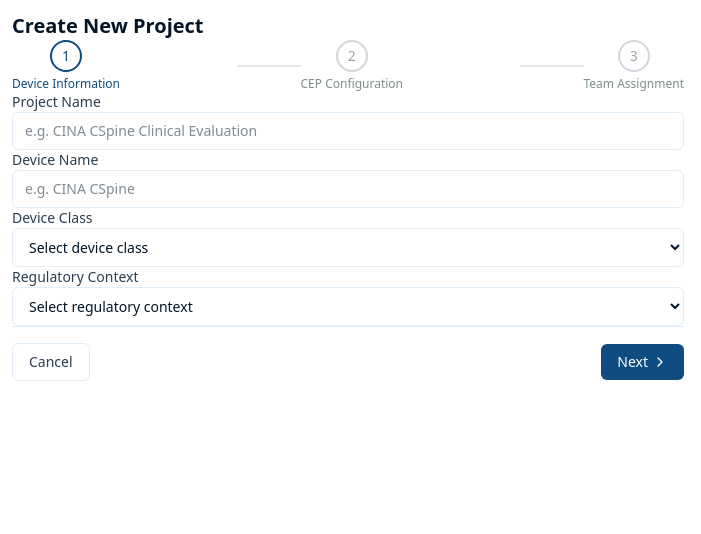
ProjectCreateWizard › advances to step 2 (CEP Configuration) when step 1 is valid
Type "CSpine Eval" into the field labelled "Project Name" at (348, 131), box [12, 112, 684, 150]
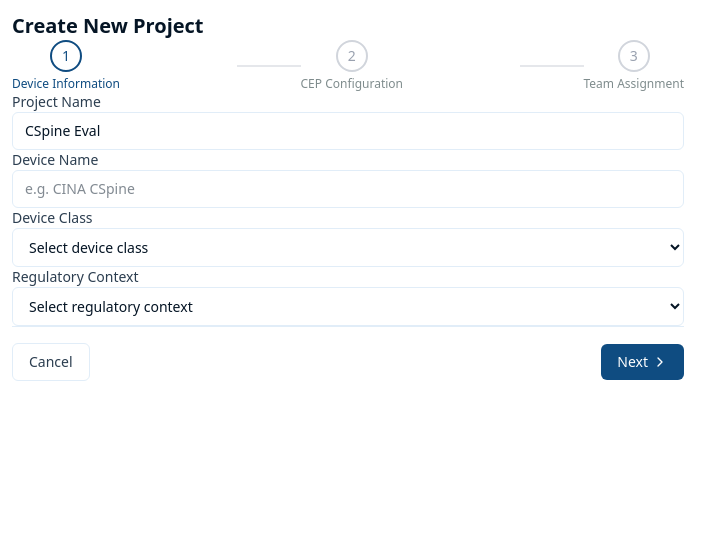
Type "CINA CSpine" into the field labelled "Device Name" at (348, 189), box [12, 170, 684, 208]
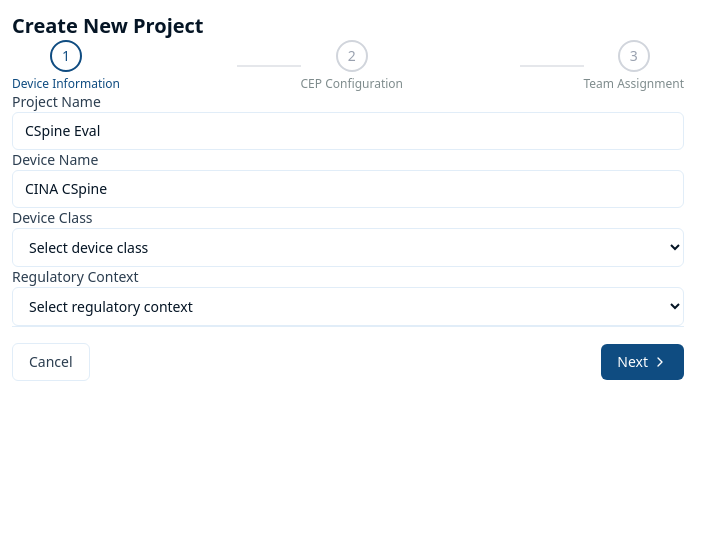
Select "Class IIa" in the dropdown labelled "Device Class" at (348, 248), box [12, 228, 684, 267]
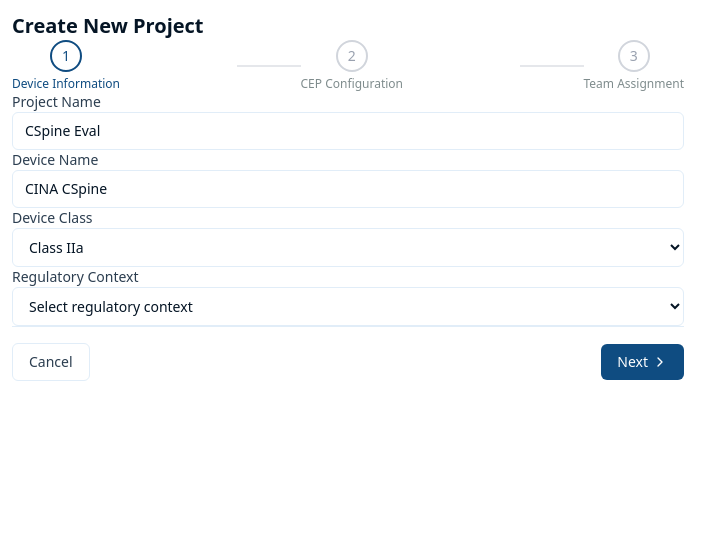
Select "CE-MDR (European Medical Device Regulation)" in the dropdown labelled "Regulatory Context" at (348, 306), box [12, 287, 684, 326]
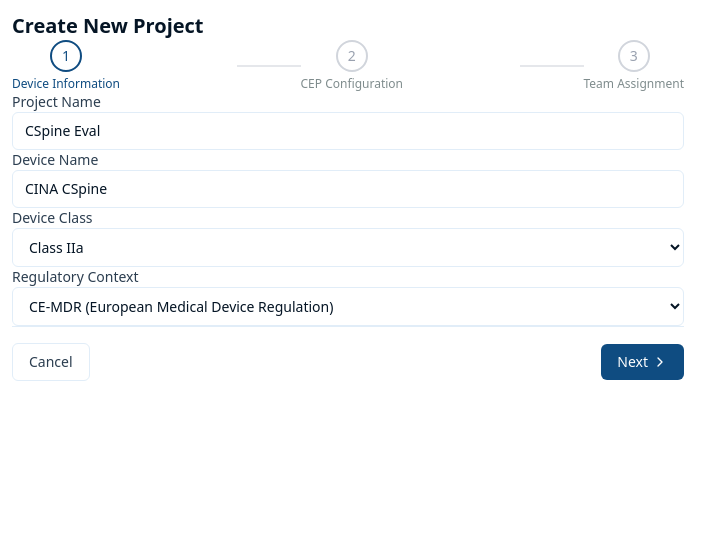
Click the button "Next" at (643, 362), box [601, 344, 684, 380]
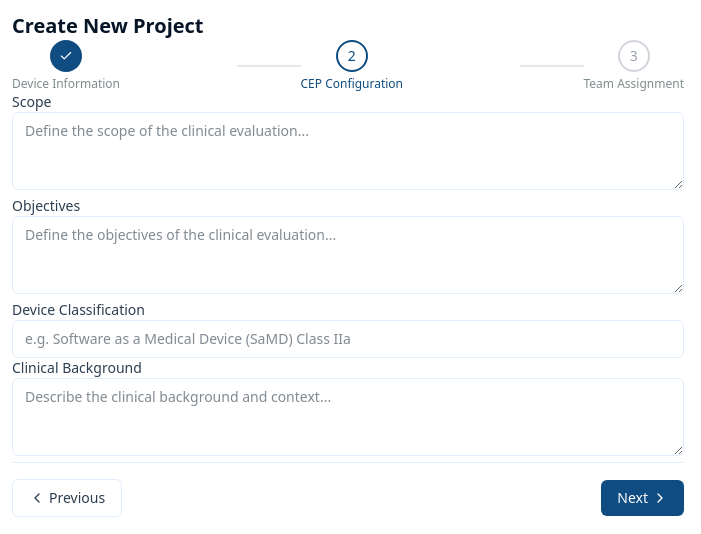
Now the element with test id "step-cep-config" is shown
Now the text box labelled "Scope" is shown, box [12, 112, 684, 190]
Now the text box labelled "Objectives" is shown, box [12, 216, 684, 294]
